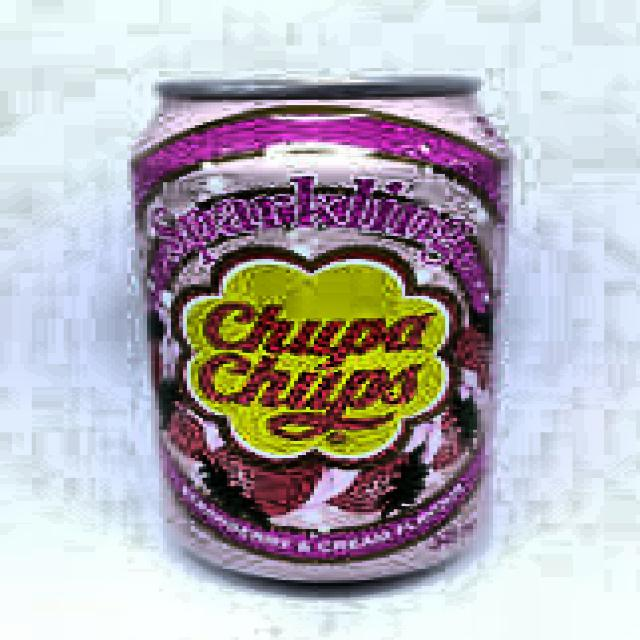Cans: (109, 58, 506, 590)
